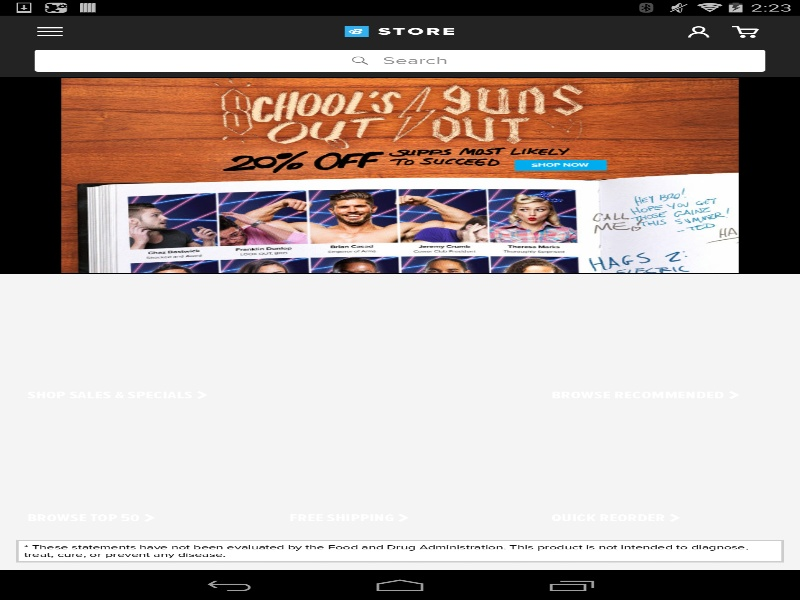Input: (341, 49, 458, 71)
